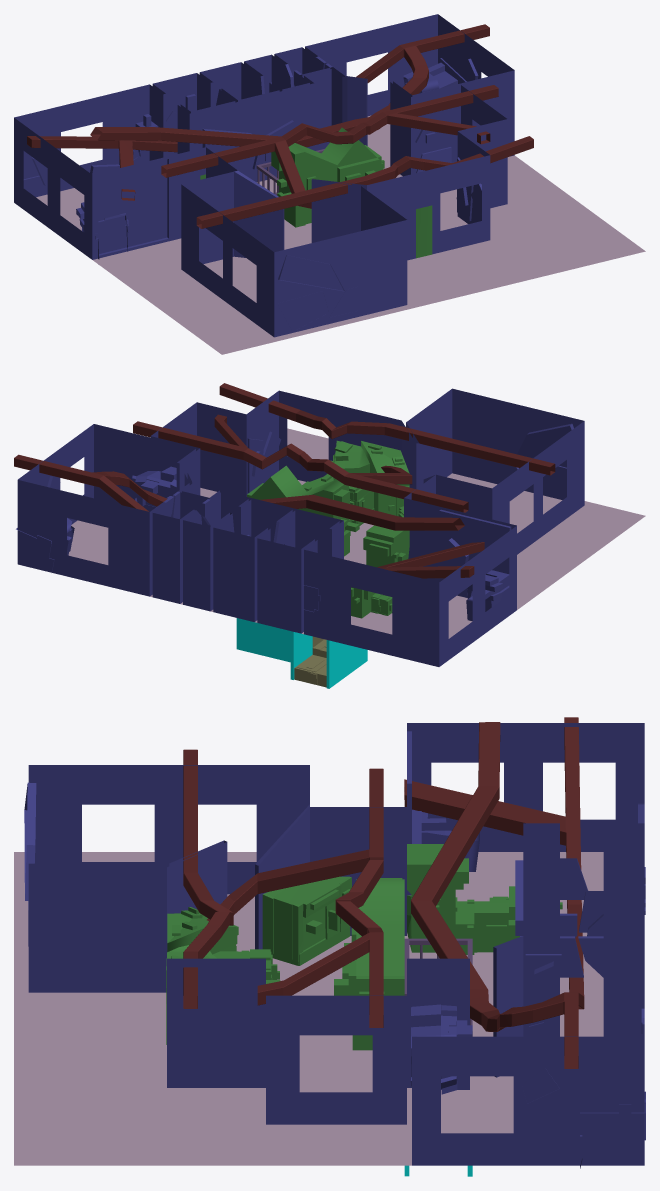
The model's file is NIVEL_2_FINALISIMO.fbx.
The picture shows the model from 3 angles, top to bottom: view 1: azimuth 30°, elevation 25°; view 2: azimuth 150°, elevation 25°; view 3: azimuth 270°, elevation 25°; orthographic projection. The views are drawn at different scales.
Visible parts, largest first — view 1: PAREDES, PISO, polySurface136, polySurface135, Protuberancia_6, polySurface134, Protuberancia_10, Protu_Pared_3; view 2: PAREDES, PISO, polySurface136, polySurface135, ESCALERA, polySurface134, Protuberancia_6, Protuberancia_4, Protuberancia_7, Protu_Pared_4, Protu_Pared_1, Protuberancia_10 (+2 smaller); view 3: PAREDES, PISO, polySurface136, polySurface135, Protuberancia_5, Protuberancia_6, polySurface134, Protuberancia_4, Protuberancia_2, Protu_Pared_4, Protuberancia_7, Protu_Pared_1 (+3 smaller).
Part boxes in pixels (x1,y1,x2,y2): PAREDES: [14, 14, 514, 337]; PISO: [36, 115, 645, 354]; polySurface136: [27, 24, 489, 200]; polySurface135: [161, 85, 498, 208]; Protuberancia_6: [271, 127, 384, 227]; polySurface134: [196, 136, 533, 228]; Protuberancia_10: [416, 205, 432, 258]; Protu_Pared_3: [403, 62, 457, 93]; PAREDES: [17, 388, 584, 666]; PISO: [68, 428, 645, 638]; polySurface136: [14, 454, 484, 578]; polySurface135: [133, 414, 468, 512]; ESCALERA: [236, 618, 367, 688]; polySurface134: [219, 383, 555, 475]; Protuberancia_6: [247, 465, 359, 556]; Protuberancia_4: [363, 525, 409, 567]; Protuberancia_7: [361, 441, 409, 516]; Protu_Pared_4: [132, 466, 176, 511]; Protu_Pared_1: [466, 570, 509, 621]; Protuberancia_10: [331, 440, 369, 480]; PAREDES: [24, 723, 644, 1165]; PISO: [14, 852, 603, 1165]; polySurface136: [404, 717, 584, 1068]; polySurface135: [207, 768, 383, 1027]; Protuberancia_5: [262, 876, 351, 965]; Protuberancia_6: [334, 878, 404, 1050]; polySurface134: [183, 749, 233, 1008]; Protuberancia_4: [407, 844, 468, 952]; Protuberancia_2: [474, 886, 562, 952]; Protu_Pared_4: [410, 1004, 472, 1094]; Protuberancia_7: [167, 907, 238, 954]; Protu_Pared_1: [412, 809, 479, 871].
Bounding box in the file's own units: 16.53 × 6.53 × 13.03.
